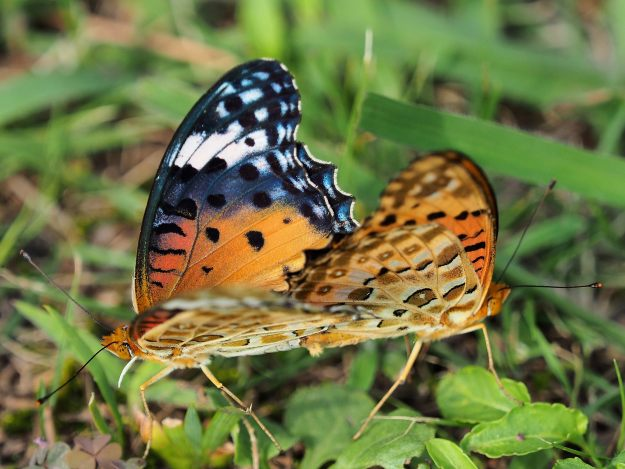Argyreus hyperbius: (15, 55, 362, 454), (282, 137, 607, 441)
butterfly: (17, 57, 364, 456), (284, 139, 609, 443)
